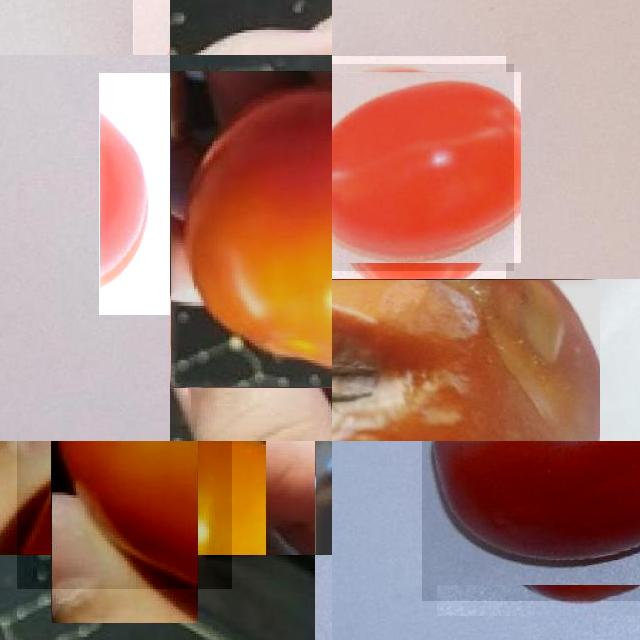0: (170, 71, 332, 387), (332, 63, 513, 271), (421, 441, 640, 600), (99, 73, 170, 315)
1: (332, 279, 600, 441)
Fresh Tomato: (17, 441, 232, 589)
